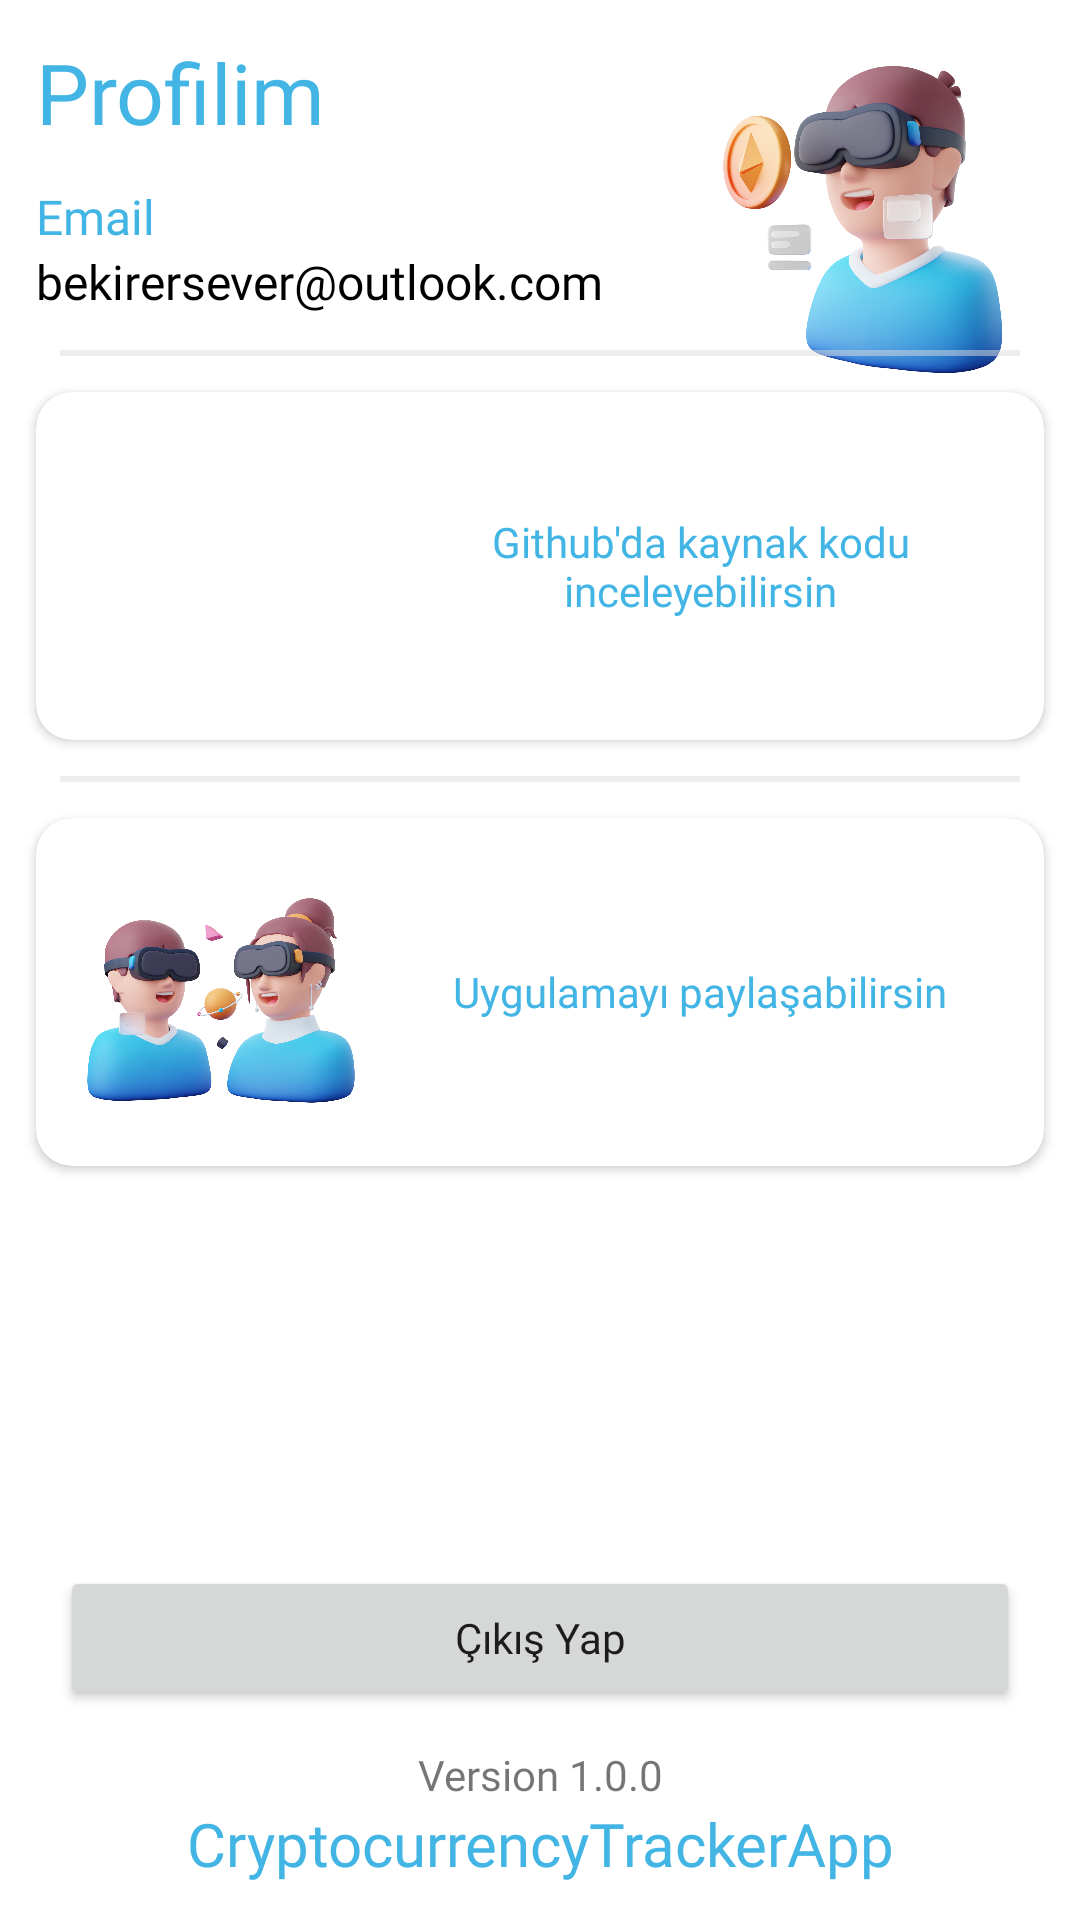

Icon bounding boxes for this 1080×1920 phone screenshot, format (x1, y1, x2, y2):
profileimg: (723, 66, 1002, 373)
